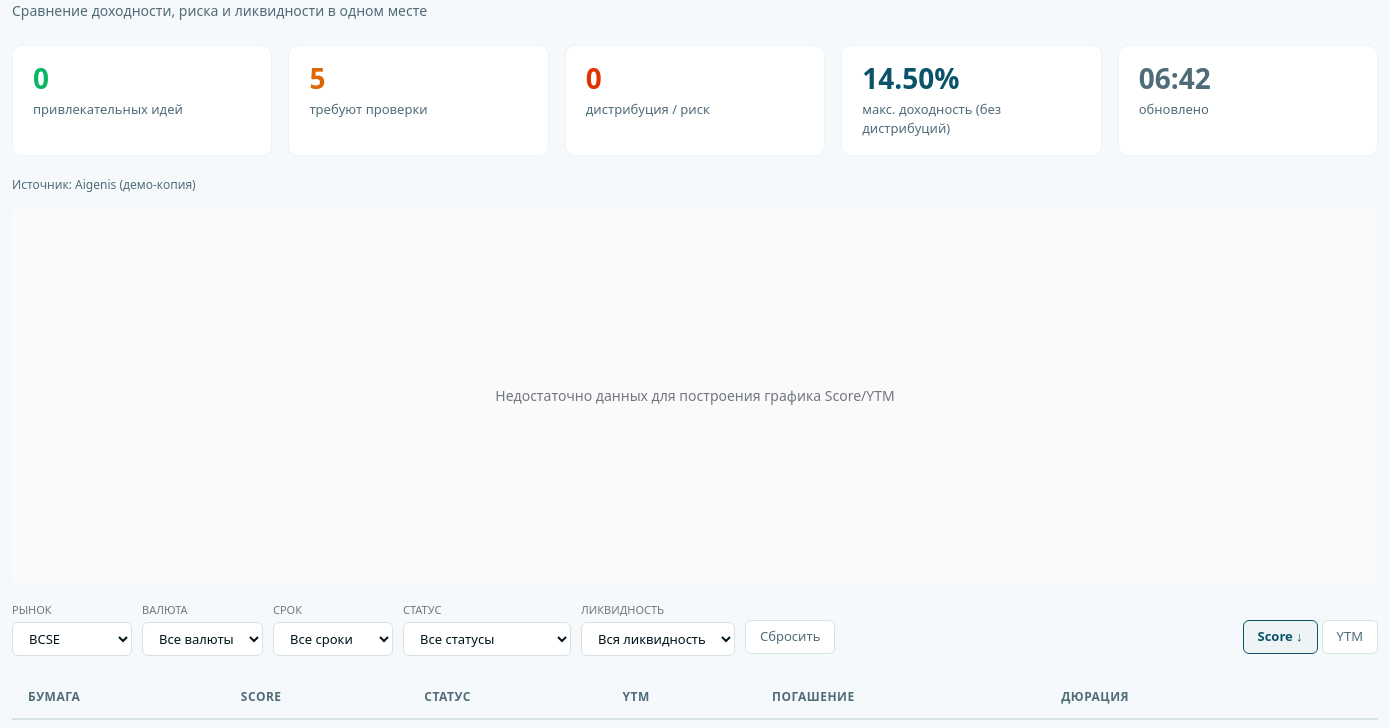
it: DemoAnalyticsPage › показывает пустое состояние при несовместимых фильтрах
Select "EUR" in the dropdown labelled "Валюта" at (202, 639), box [142,622,263,656]
(page scrolled)
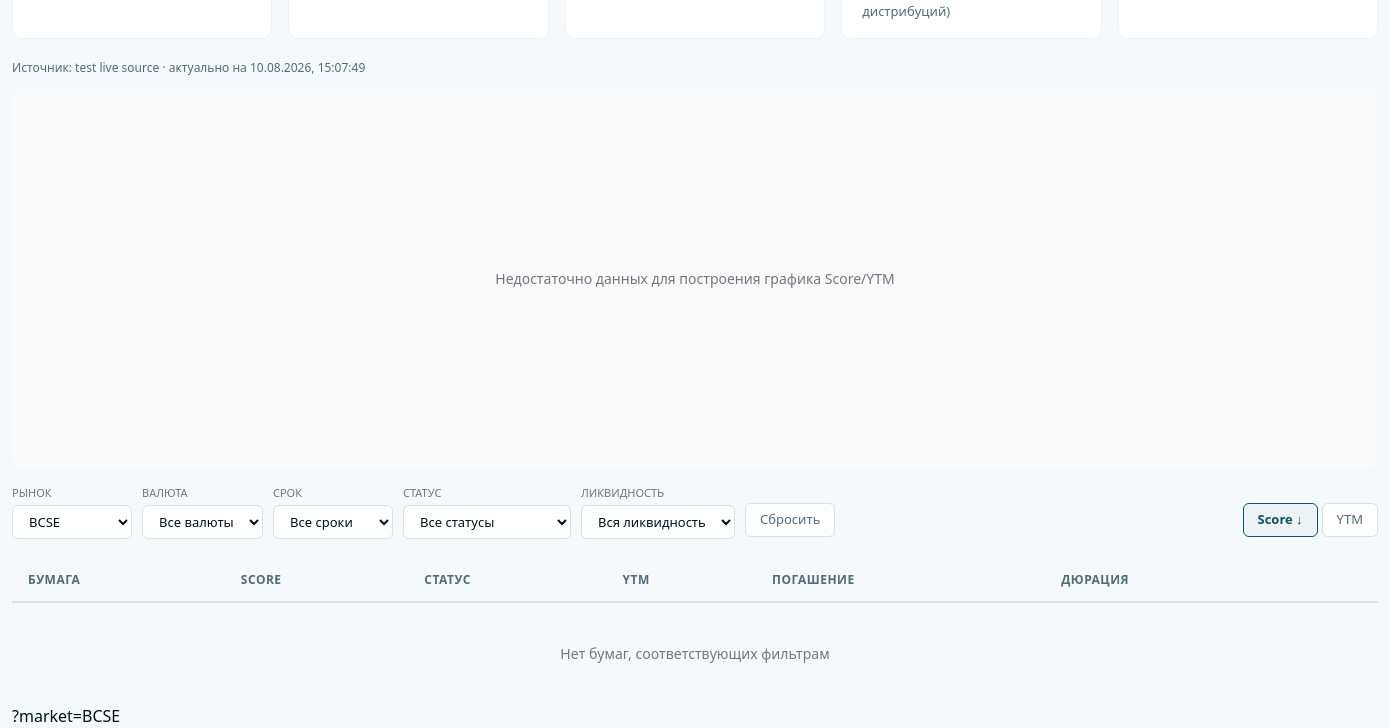
Now the text "Нет бумаг, соответствующих фильтрам" is shown, box [12,602,1378,704]
